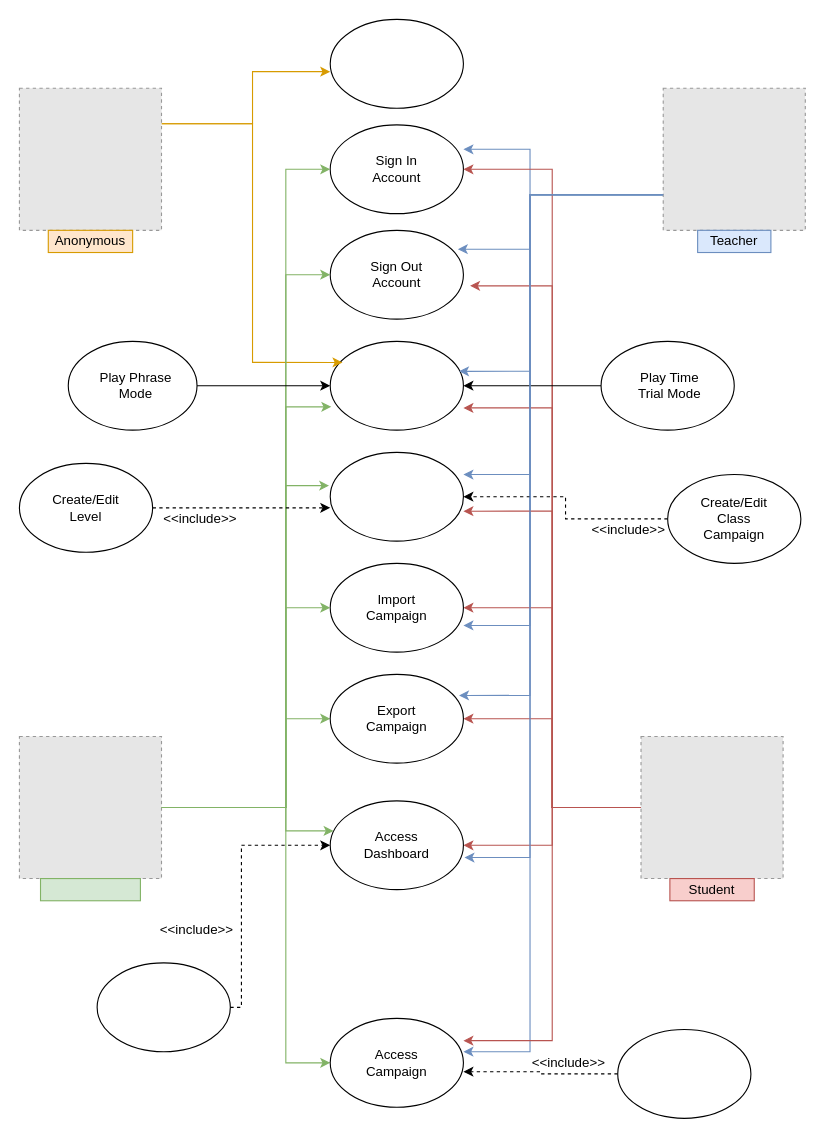
The diagram is 825 pixels wide and 1138 high, and some of its shapes have lost their labels. Grey dashed boxes stand in for pictures. The shapes that lost their labels are listed below. From the top down, each one's centre as x and y in pixels, then its label:
At pixel 396 63: "Register Account".
At pixel 396 385: "Play Game".
At pixel 396 496: "Create/Edit Campaign".
At pixel 89 889: "Registered".
At pixel 163 1007: "Access Teacher Dashboard".
At pixel 684 1073: "Access Class Campaign".
